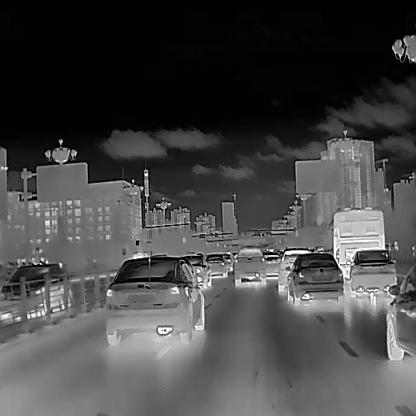bus: (327, 206, 385, 280)
car: (103, 255, 205, 348), (0, 262, 72, 322), (284, 252, 345, 306), (385, 260, 415, 361), (348, 249, 397, 298), (277, 247, 312, 292), (233, 245, 266, 288), (182, 254, 210, 288), (206, 253, 228, 277), (262, 251, 280, 276), (221, 252, 233, 270)
